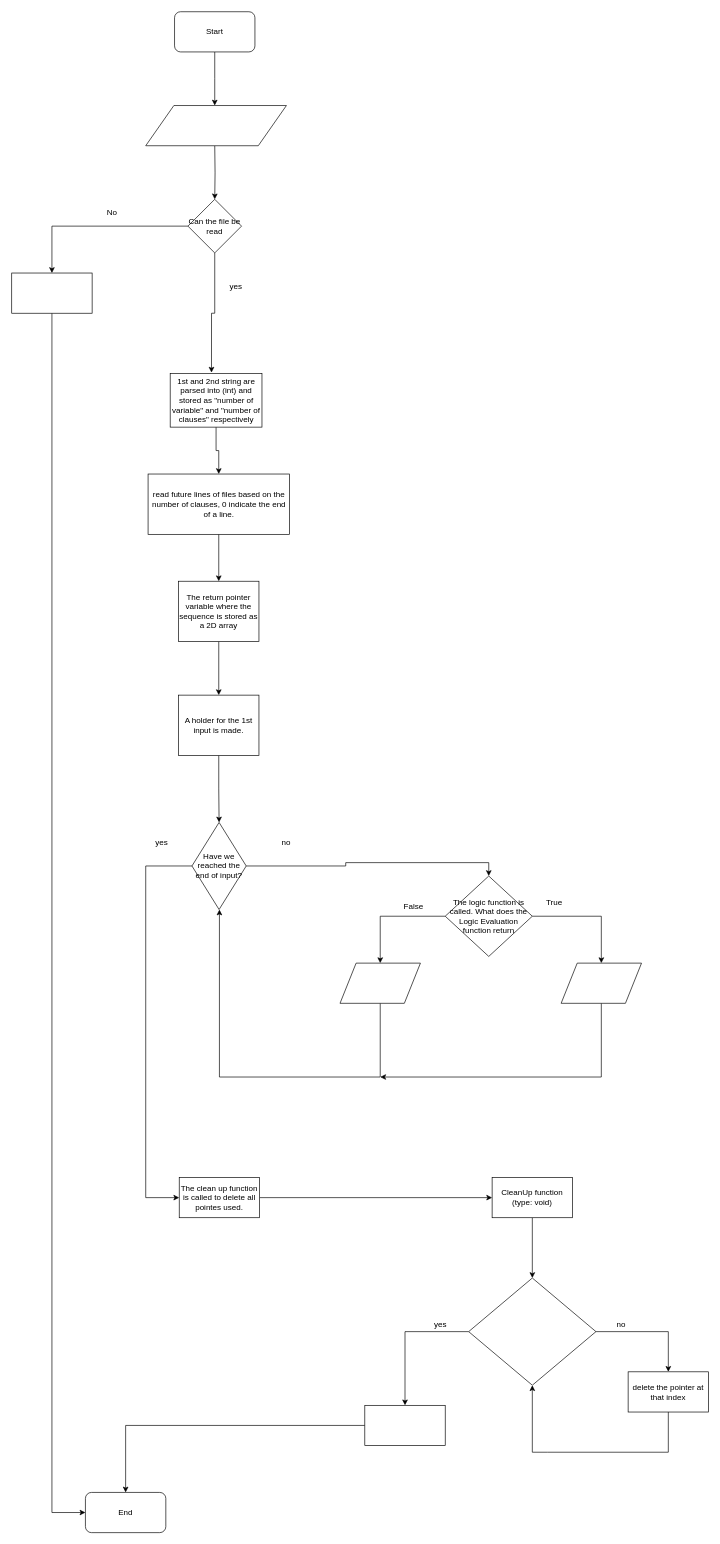
This 720x1544 diagram has some shape labels left out. Here are the shapes that lost their labels. From the top down, the box of each, then its label:
(145, 105, 286, 146): The sequence/input in taken as an input
(11, 272, 92, 313): Output the error to the console and exit the program.
(339, 962, 420, 1003): Print "false" to the consol
(560, 962, 642, 1003): Print "true" to the consol
(468, 1277, 596, 1385): Have we visit all indexes of pointer of pointers?
(364, 1405, 445, 1446): Delete the pointer of pointers
